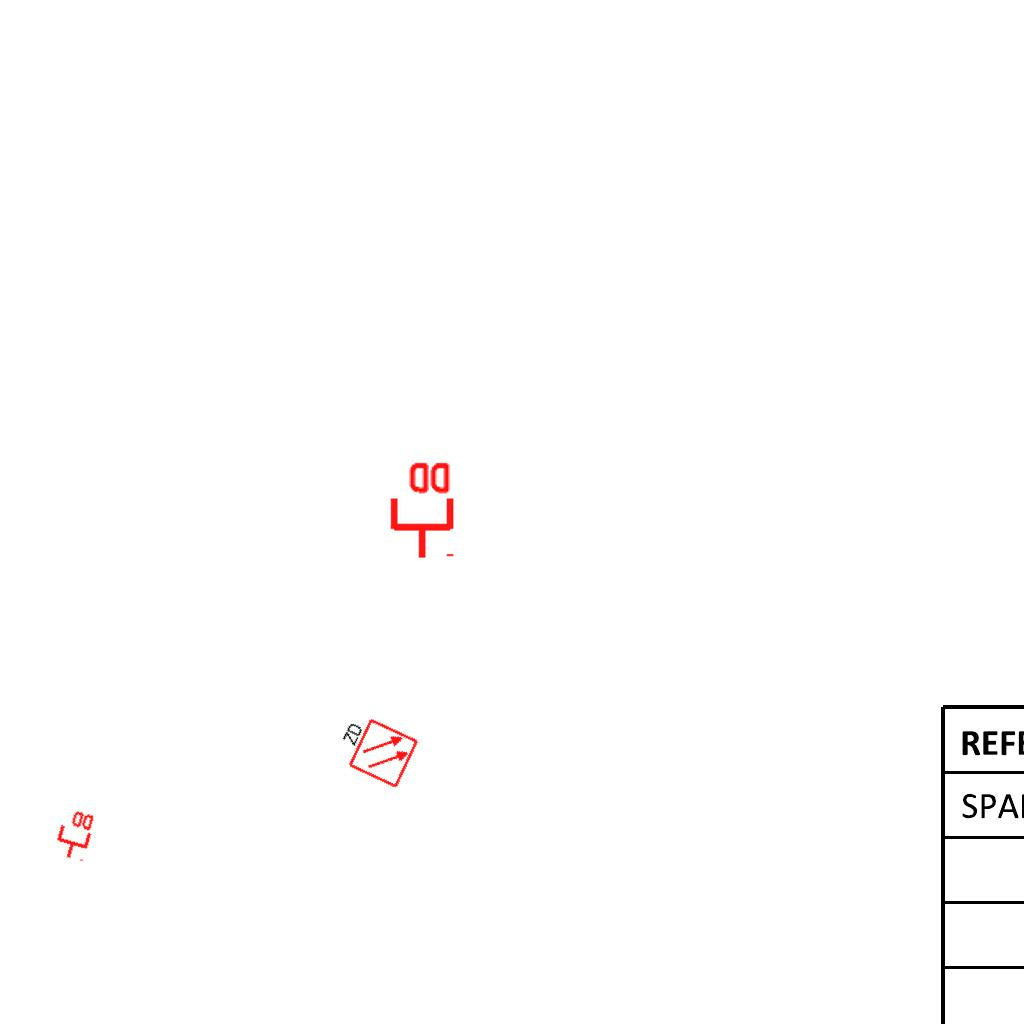Datenanschluss_zweifach: (386, 458, 455, 561), (50, 805, 98, 864)
ZD_Melder_in_Zwischendecke_mit_Revisionsoeffnung_mind_40_x_40_cm: (328, 708, 421, 792)
